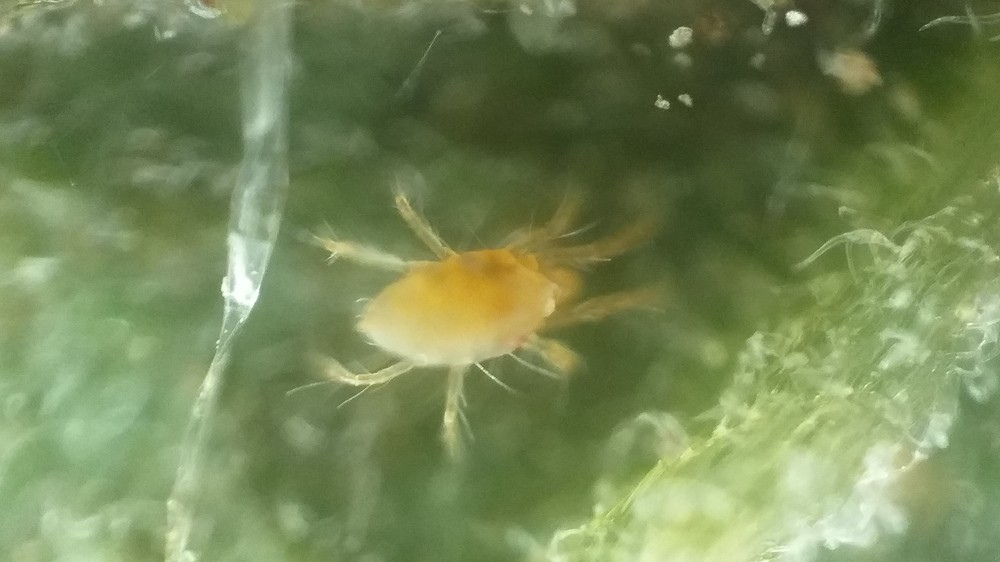Aracnido Rojo: (285, 166, 689, 444)
